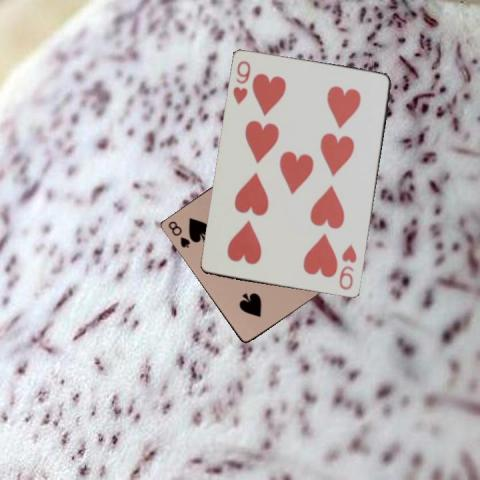8s: (165, 218, 191, 249)
9h: (336, 242, 359, 292), (230, 58, 252, 107)
